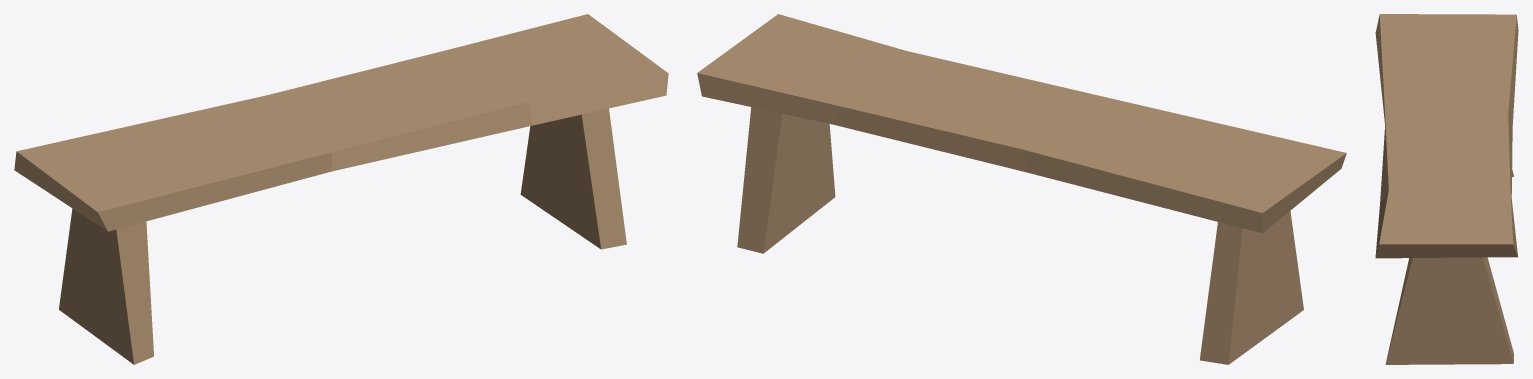
File: enchantedforest_bench.fbx
3 views of the same model, side by side, from view 1: azimuth 30°, elevation 25°; view 2: azimuth 150°, elevation 25°; view 3: azimuth 270°, elevation 25° (orthographic). The views are drawn at different scales.
Parts seen in each view (by area): view 1: Cube.014; view 2: Cube.014; view 3: Cube.014.
Boxes of the visible parts, bbox=[...] form: Cube.014: bbox=[14, 14, 668, 364]; Cube.014: bbox=[697, 14, 1346, 364]; Cube.014: bbox=[1375, 14, 1518, 364].
Bounding box in the file's own units: 2.09 × 0.577 × 0.5496.
